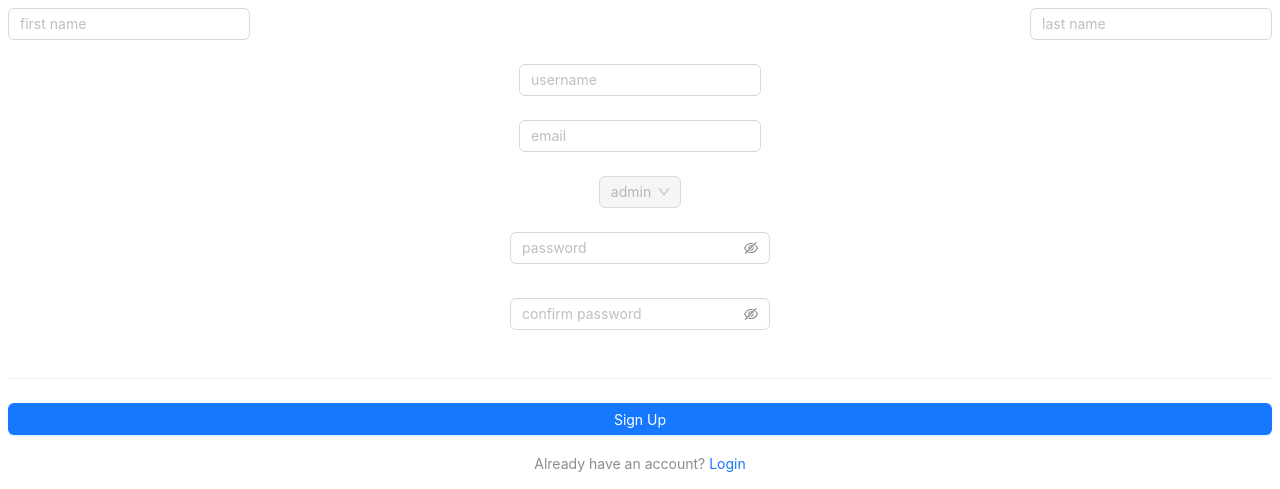
RegistrationForm › shows error for invalid email formats
Step 1. Type "johndoe@mailcom" into the field with placeholder "email" → (640, 136), box [519, 120, 761, 152]
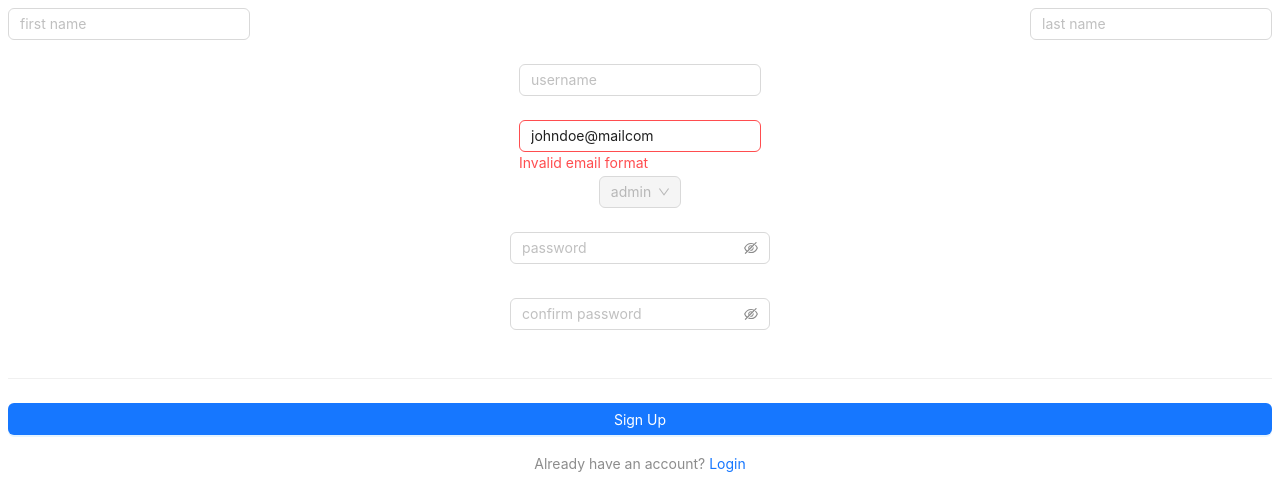
Expected: the text "Invalid email format" is shown, [519, 154, 648, 171]
